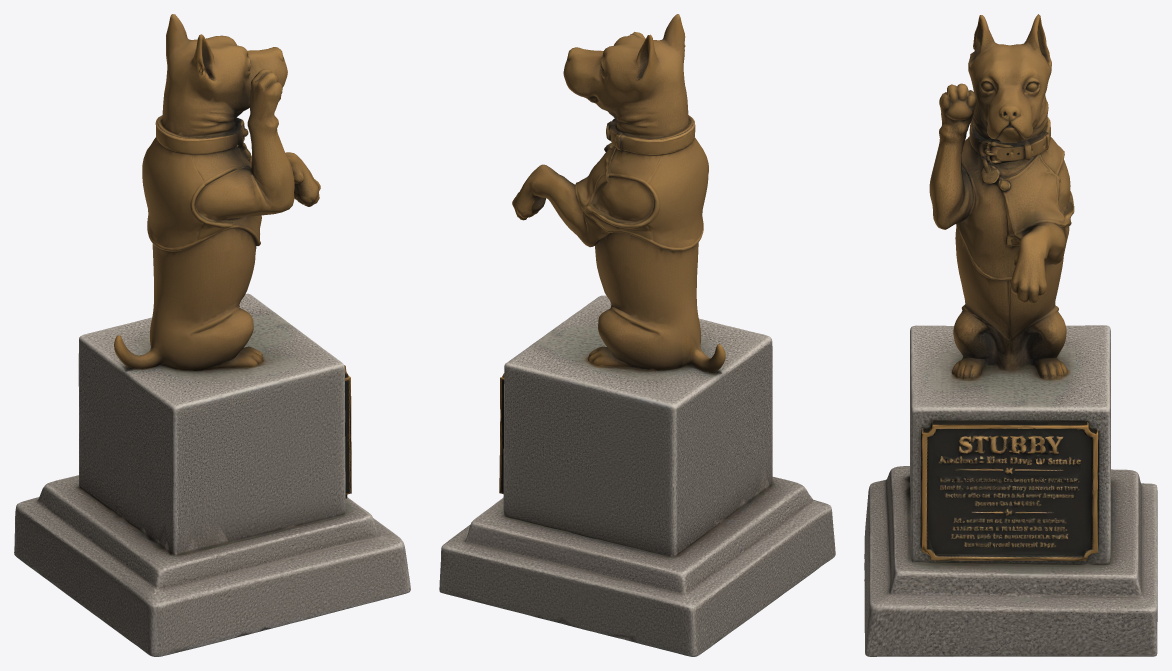
The model's file is stubby.glb.
The picture shows the model from 3 angles, left to right: view 1: azimuth 30°, elevation 25°; view 2: azimuth 150°, elevation 25°; view 3: azimuth 270°, elevation 25°; orthographic projection. The views are drawn at different scales.
Parts seen in each view (by area): view 1: tripo_node_9353659d-6d01-4d3a-9156-296c6a01407c; view 2: tripo_node_9353659d-6d01-4d3a-9156-296c6a01407c; view 3: tripo_node_9353659d-6d01-4d3a-9156-296c6a01407c.
Boxes of the visible parts, left/top/right/bottom form: tripo_node_9353659d-6d01-4d3a-9156-296c6a01407c: left=14, top=14, right=410, bottom=656; tripo_node_9353659d-6d01-4d3a-9156-296c6a01407c: left=439, top=14, right=835, bottom=656; tripo_node_9353659d-6d01-4d3a-9156-296c6a01407c: left=864, top=14, right=1157, bottom=656.
Size of the model in its own units: 0.4769 by 0.9802 by 0.4574.
Materials: 1 (1 with a texture image).
